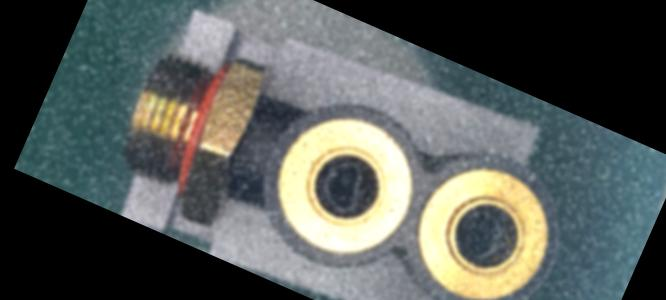off-centered: (305, 142, 382, 226), (443, 195, 517, 272)
